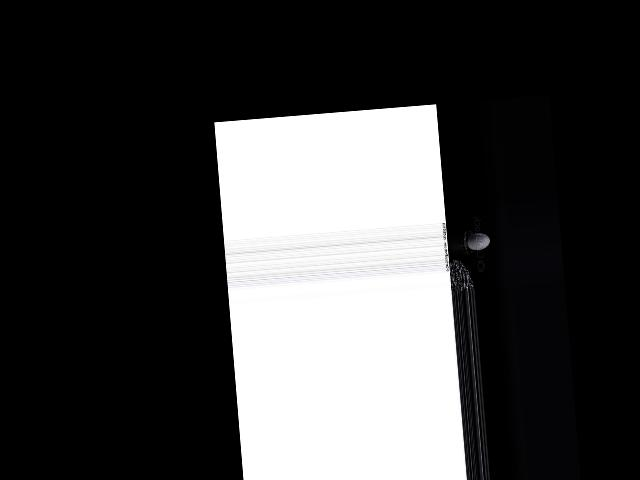egg: (465, 231, 490, 250)
